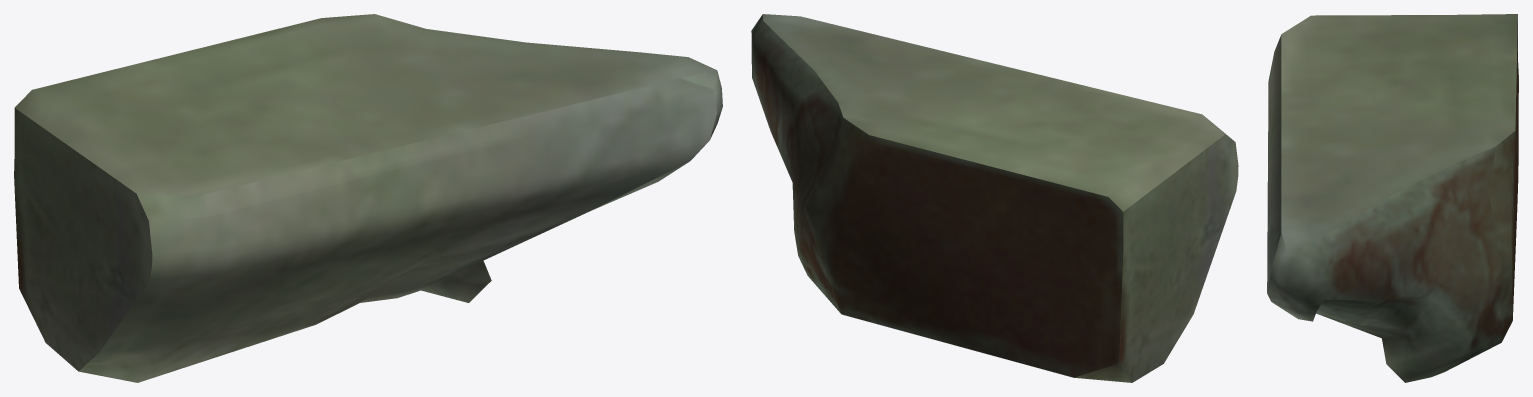
The model's file is Ruins_Trim_Top_DMG_2M_B.fbx.
3 views of the same model, side by side, from view 1: azimuth 30°, elevation 25°; view 2: azimuth 150°, elevation 25°; view 3: azimuth 270°, elevation 25° (orthographic). The views are drawn at different scales.
Visible parts, largest first — view 1: Ruins_Trim_Top_DMG_2M_B; view 2: Ruins_Trim_Top_DMG_2M_B; view 3: Ruins_Trim_Top_DMG_2M_B.
Boxes of the visible parts, box(x1,y1,x2,y2) form: Ruins_Trim_Top_DMG_2M_B: box(14, 14, 722, 382); Ruins_Trim_Top_DMG_2M_B: box(751, 14, 1238, 382); Ruins_Trim_Top_DMG_2M_B: box(1267, 14, 1518, 382).
Size of the model in its own units: 99.36 by 43.49 by 45.05.
